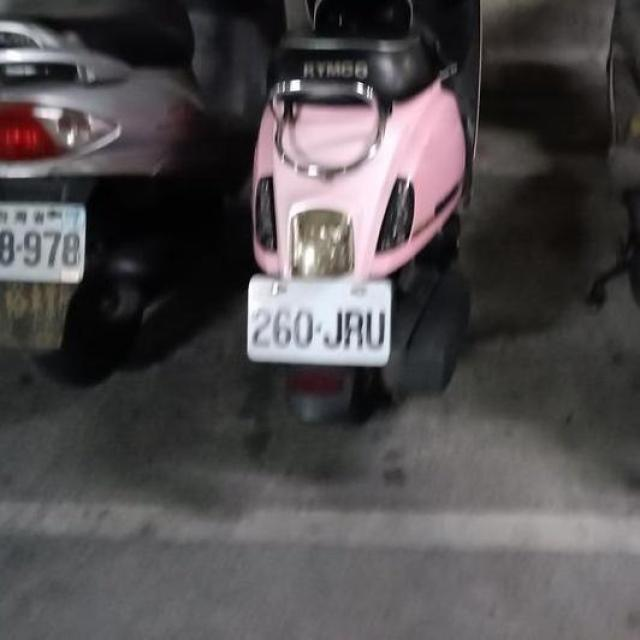W: (237, 265, 401, 380), (0, 184, 96, 292)
